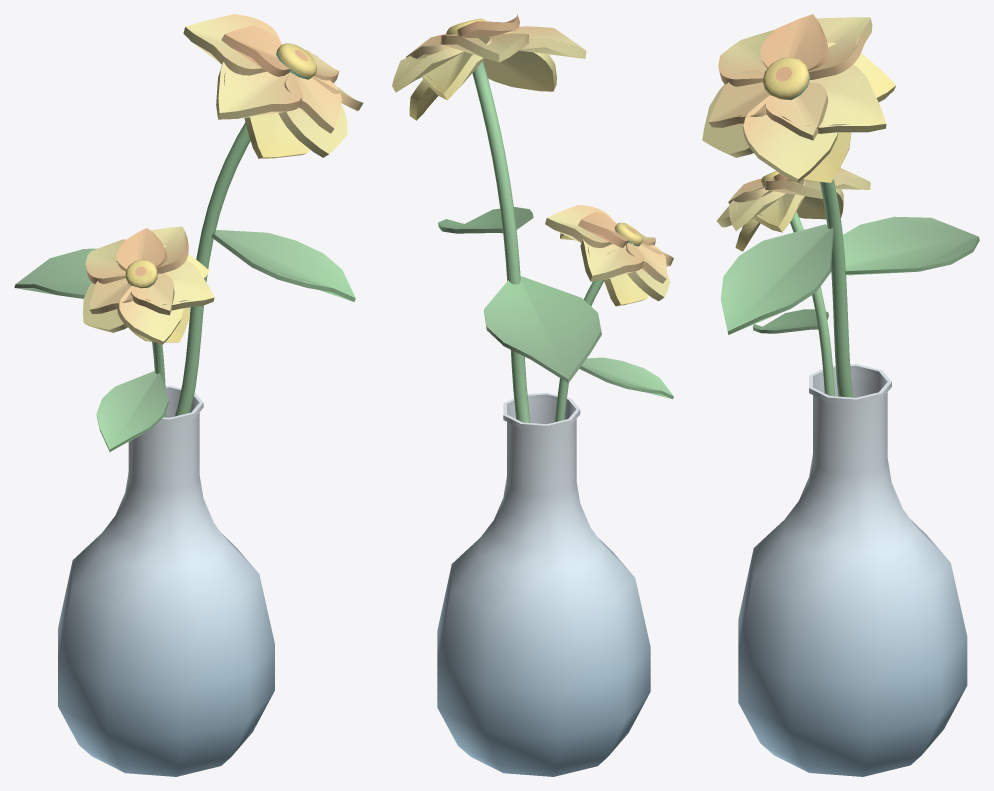
The model's file is flowervase.fbx.
The picture shows the model from 3 angles, left to right: view 1: azimuth 30°, elevation 25°; view 2: azimuth 150°, elevation 25°; view 3: azimuth 270°, elevation 25°; orthographic projection. The views are drawn at different scales.
Visible parts, largest first — view 1: flowervase, flowervasepetals; view 2: flowervase, flowervasepetals; view 3: flowervase, flowervasepetals.
Boxes of the visible parts, <box> form: flowervase: <box>14,43,355,776</box>; flowervasepetals: <box>83,14,363,344</box>; flowervase: <box>437,18,673,776</box>; flowervasepetals: <box>392,14,673,306</box>; flowervase: <box>720,57,979,776</box>; flowervasepetals: <box>702,14,896,251</box>.
Bounding box in the file's own units: 2.08 × 5.17 × 1.73.
1 material, 1 textured.
